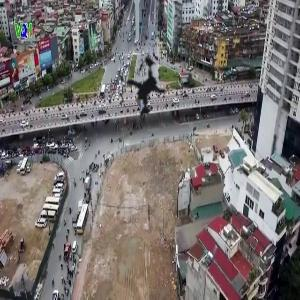drone: (85, 33, 202, 150)
